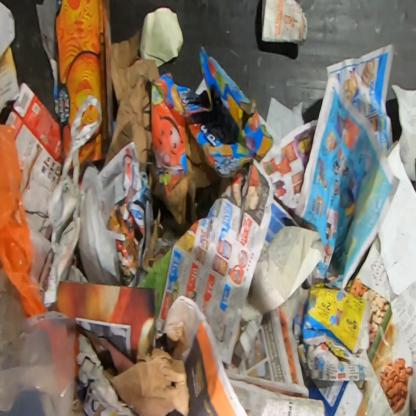cardboard: (149, 45, 274, 225), (55, 0, 113, 165), (4, 82, 63, 192), (305, 377, 365, 415), (261, 0, 309, 44), (79, 106, 99, 132)
soft_plastic: (0, 268, 77, 416), (0, 123, 49, 319), (48, 96, 102, 232)
